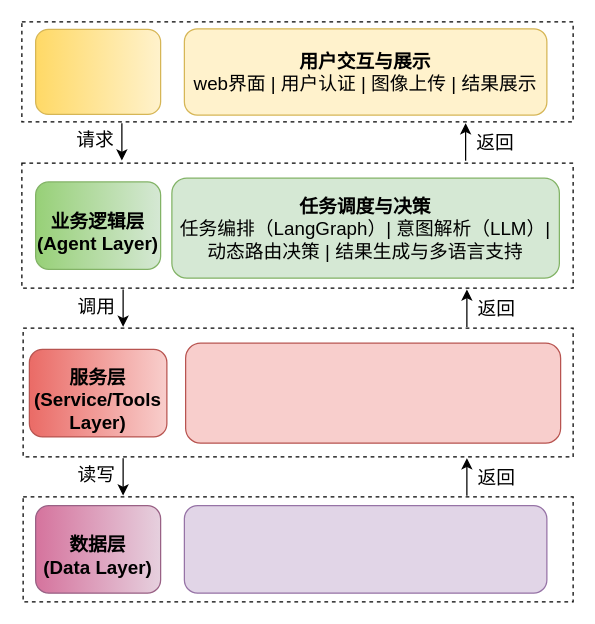
The diagram is 595 pixels wide and 624 high, and some of its shapes have lost their labels. Each missing label, with the centre of its shape:
数据管理与存储 用户数据 | 图像数据 | 分析结果 | 报告存储: point (365, 548)
算法服务与分析 分割引擎 | 表型分析 | 颜色分析 | 纹理分析 | 质量评估 | 综合分级 | 图像有效性检测: point (372, 392)
表示层(Presentation Layer): point (97, 71)
